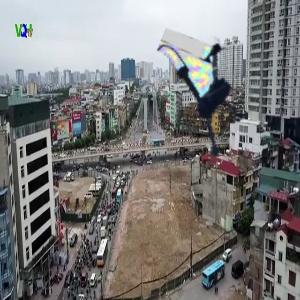drone: (142, 38, 275, 171)
